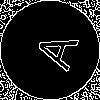A: (25, 25, 79, 72)
